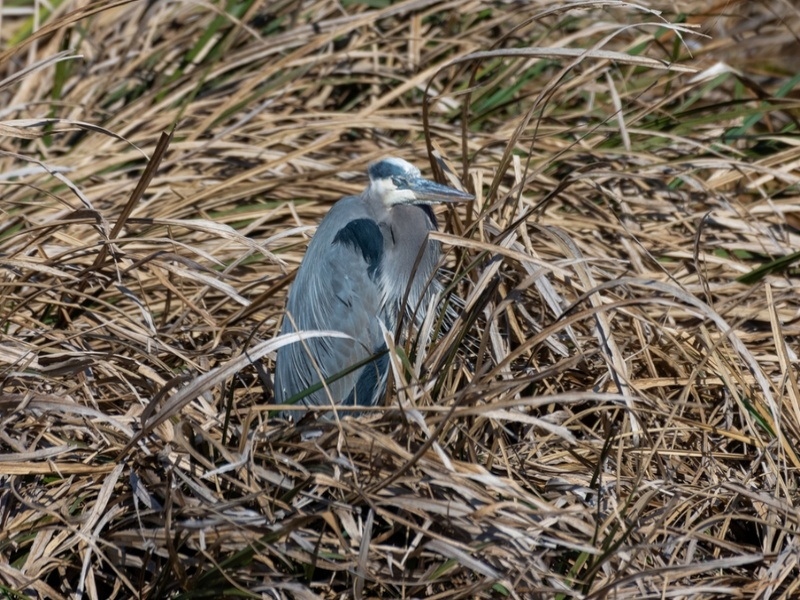heron: (266, 154, 474, 431)
